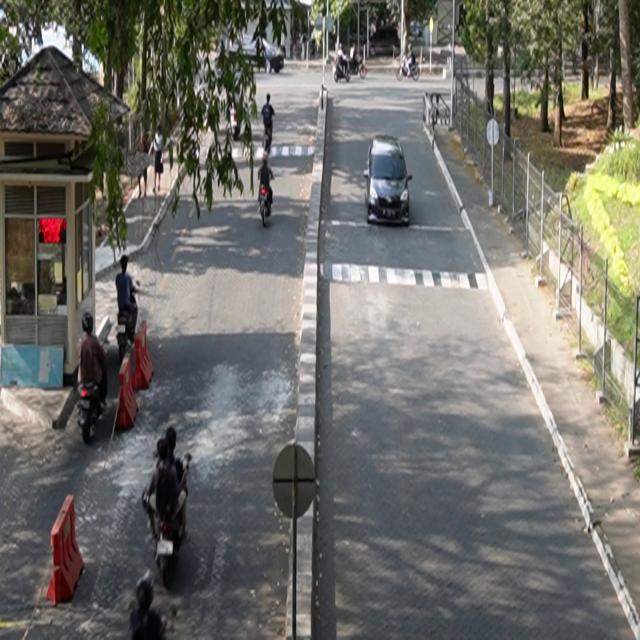car: (364, 135, 413, 227)
